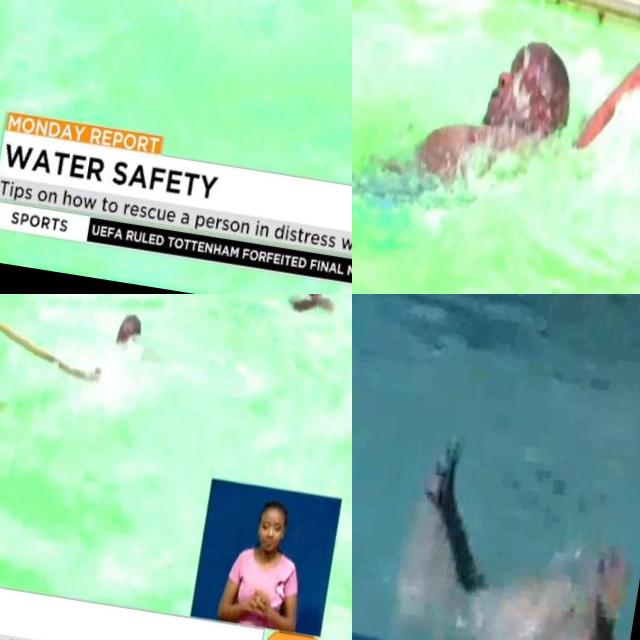drowning: (379, 424, 640, 640), (85, 294, 164, 411)
swimming: (352, 0, 640, 262), (275, 294, 349, 359)
